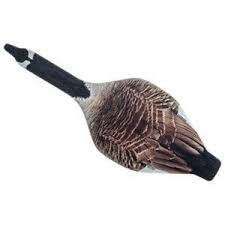goose: (2, 40, 222, 186)
